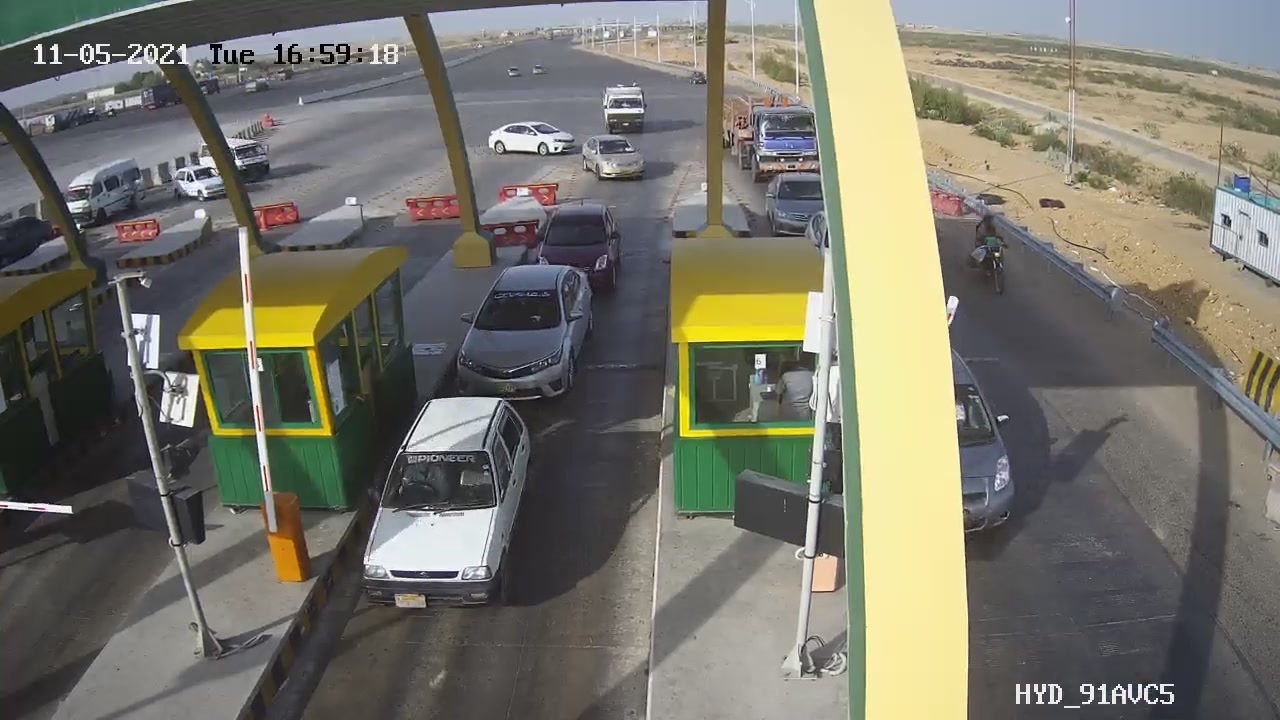F1: (336, 369, 558, 631), (440, 247, 603, 423), (518, 186, 635, 311)
